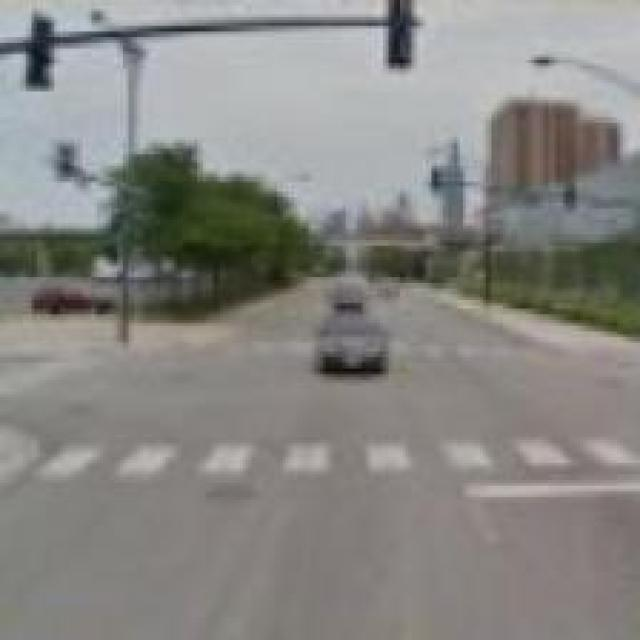walk-crossing: (0, 403, 634, 506)
